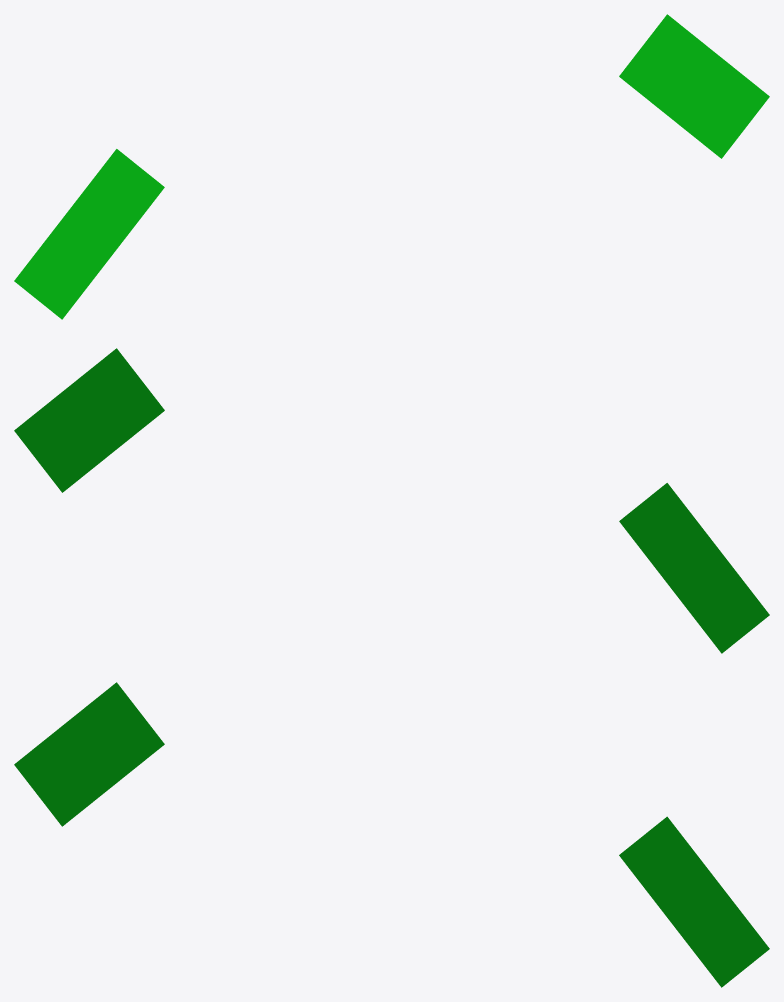
Rendered from image1-2.glb.
The picture shows the model from 3 angles, top to bottom: view 1: azimuth 30°, elevation 25°; view 2: azimuth 150°, elevation 25°; view 3: azimuth 330°, elevation 25°; orthographic projection.
Parts seen in each view (by area): view 1: InterstellarPoster.009; view 2: InterstellarPoster.009; view 3: InterstellarPoster.009.
Part boxes in pixels (<box>): InterstellarPoster.009: <box>14,14,769,319</box>; InterstellarPoster.009: <box>14,348,769,653</box>; InterstellarPoster.009: <box>14,682,769,987</box>.
Size of the model in its own units: 0.4374 by 0.0874 by 0.
